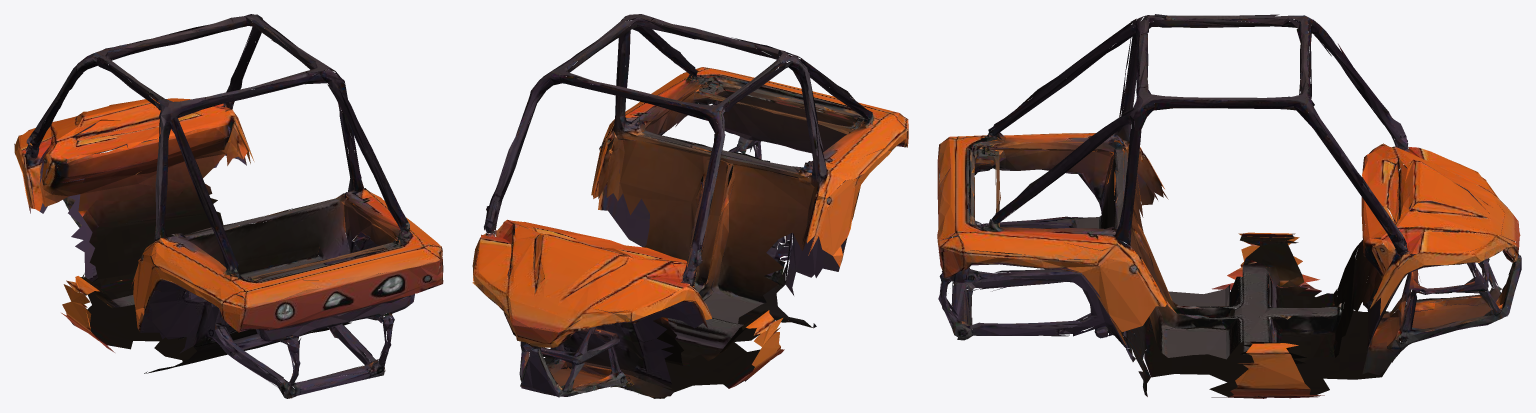
The model's file is buggy_body.glb.
3 renders of one model, left to right at view 1: azimuth 30°, elevation 25°; view 2: azimuth 150°, elevation 25°; view 3: azimuth 270°, elevation 25°, orthographic. The views are drawn at different scales.
Parts seen in each view (by area): view 1: geometry_0; view 2: geometry_0; view 3: geometry_0.
Part boxes in pixels (x1=…): geometry_0: x1=14, y1=14, x2=443, y2=398; geometry_0: x1=472, y1=14, x2=908, y2=398; geometry_0: x1=937, y1=14, x2=1521, y2=398.
Bounding box in the file's own units: 0.5161 × 0.545 × 1.
Materials: 1 (1 with a texture image).
